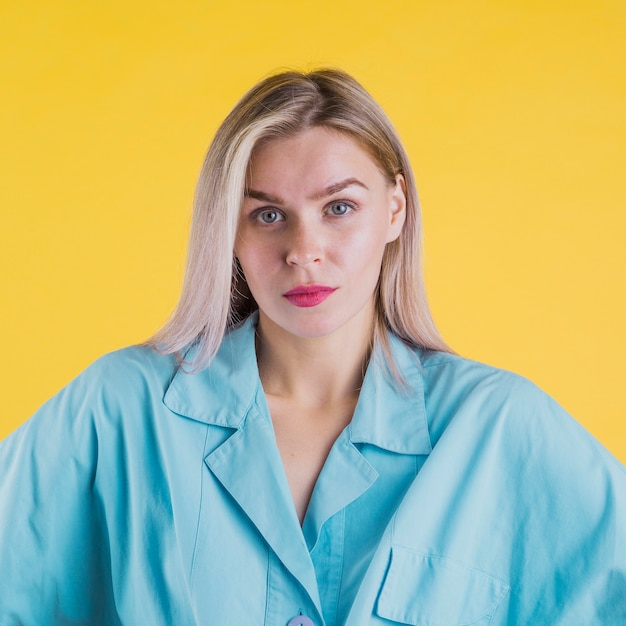teen: (165, 62, 425, 394)
